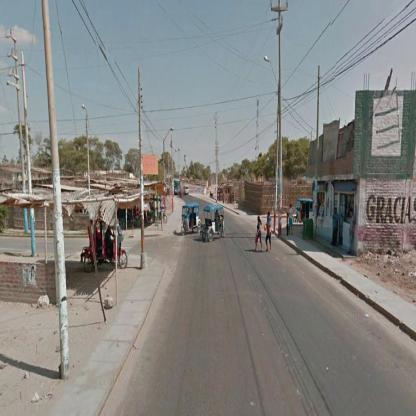Peaton: (255, 217, 264, 253), (266, 213, 272, 253), (289, 205, 294, 236), (184, 187, 190, 196)
Pista: (130, 195, 416, 359)
Vehiculo: (81, 216, 129, 274), (203, 204, 226, 243), (182, 204, 202, 236), (294, 199, 315, 228), (175, 180, 181, 197)
